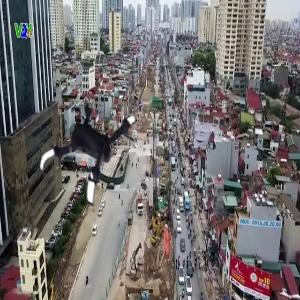drone: (34, 86, 156, 208)
